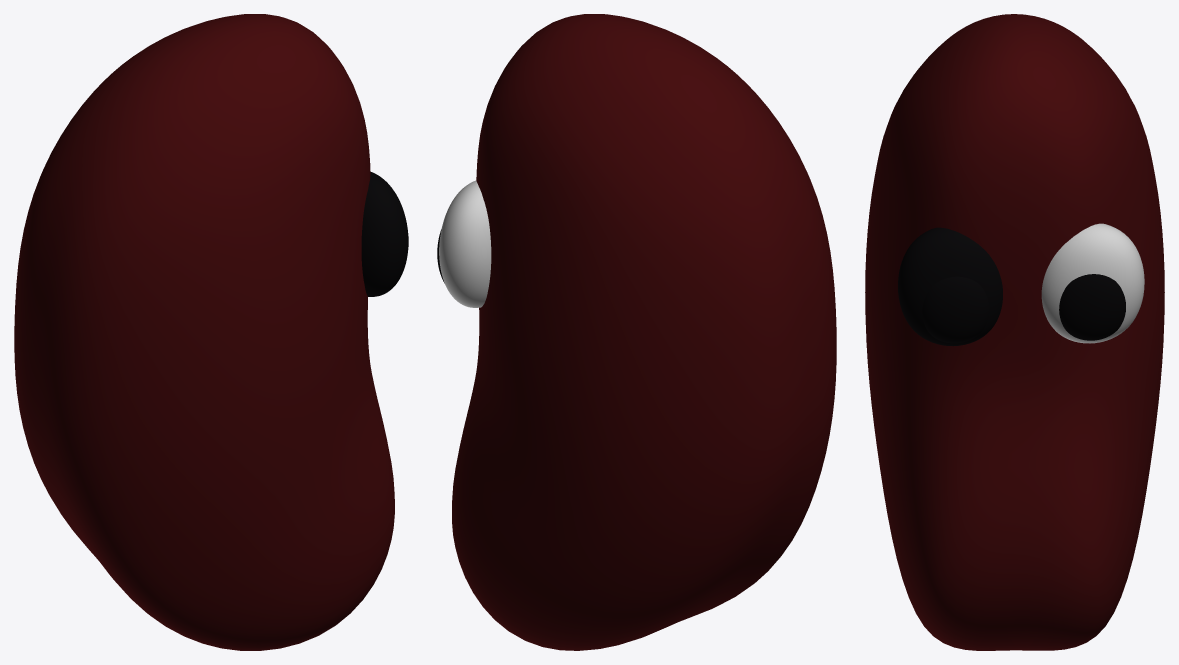
Rendered from Fijãooooooon 2d.obj.
3 renders of one model, left to right at view 1: azimuth 30°, elevation 25°; view 2: azimuth 150°, elevation 25°; view 3: azimuth 270°, elevation 25°, orthographic. The views are drawn at different scales.
Visible parts, largest first — view 1: Feijão, olho.002; view 2: Feijão, olho.001; view 3: Feijão, olho.002, olho.001, Pupila.002, Pupila.001.
Part boxes in pixels (x1,y1,x2,y2): Feijão: (14,14,394,650); olho.002: (361,172,408,296); Feijão: (452,14,836,650); olho.001: (439,180,491,307); Feijão: (865,14,1164,650); olho.002: (898,227,1002,346); olho.001: (1041,223,1144,343); Pupila.002: (922,276,989,343); Pupila.001: (1059,274,1125,340).
Size of the model in its own units: 2.61 by 4.56 by 2.08.
